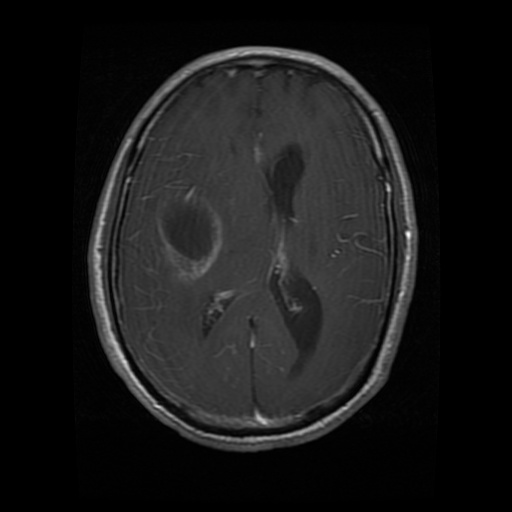glioma: (152, 186, 222, 285)
